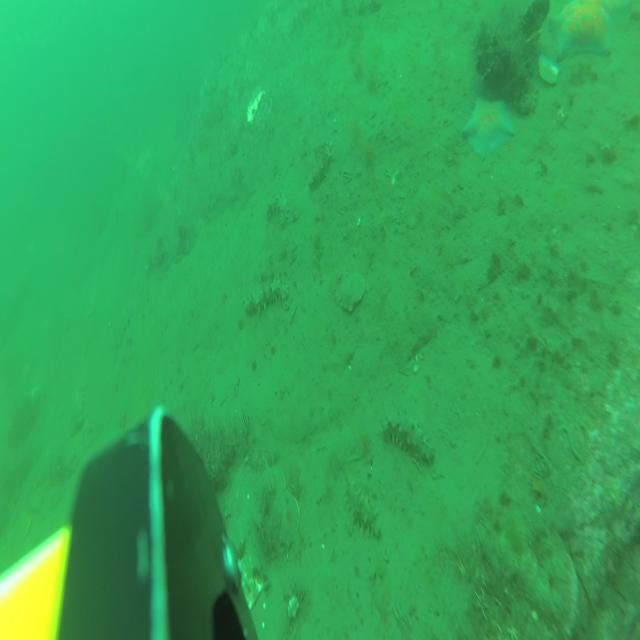holothurian: (385, 411, 435, 467), (345, 478, 380, 536), (243, 276, 288, 314), (309, 142, 331, 190), (72, 377, 86, 432), (266, 196, 288, 227), (114, 312, 130, 353)
scallop: (267, 491, 299, 553), (233, 554, 263, 609), (259, 466, 287, 522), (337, 272, 365, 312), (520, 0, 550, 36), (539, 51, 560, 85)
starfish: (550, 0, 612, 59), (466, 97, 514, 160), (594, 0, 633, 27)
